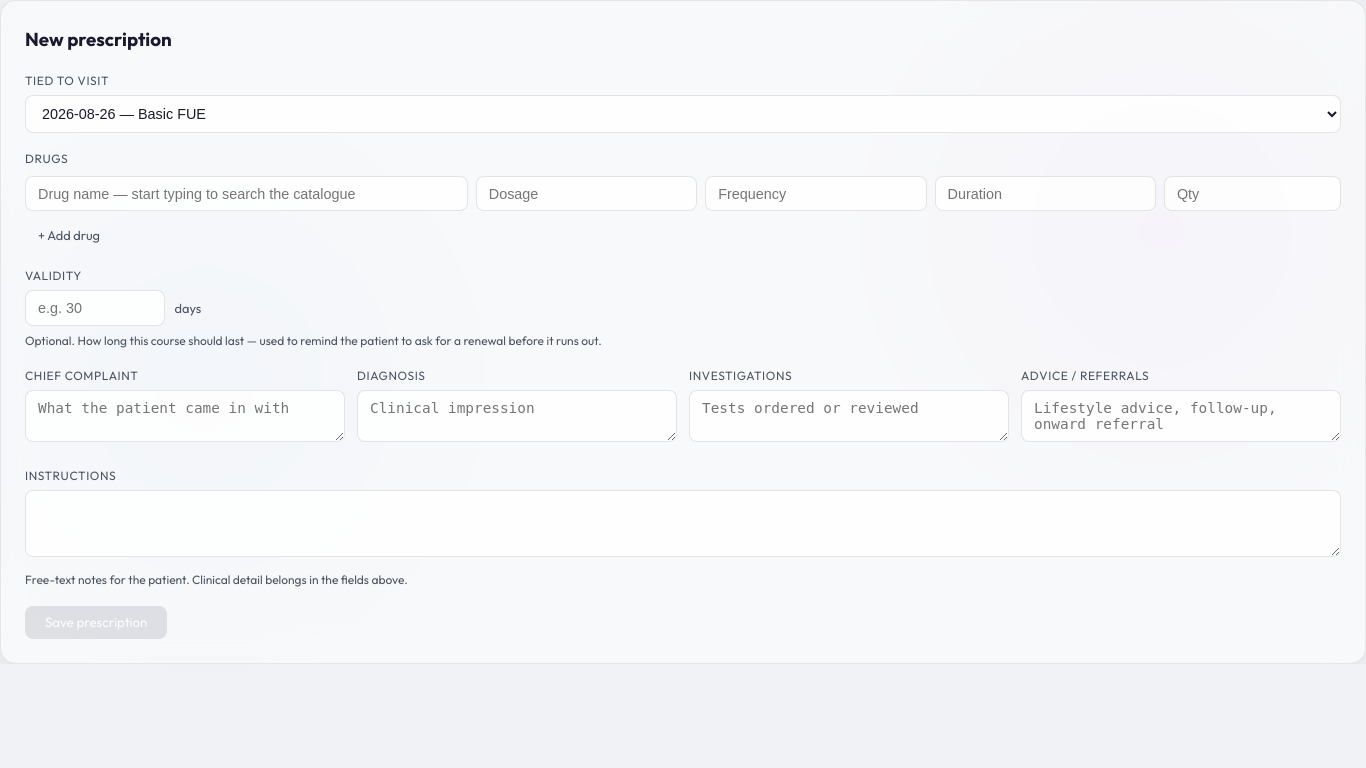
Test: PrescribeTab — drug typeahead › flags a drug at or below its reorder point as low
This screenshot has width=1366, height=768.
In the field with placeholder "Drug name — start typing to search the catalogue": (246, 194) 25,176 -> 468,211, type "mino"
Wait 300 ms
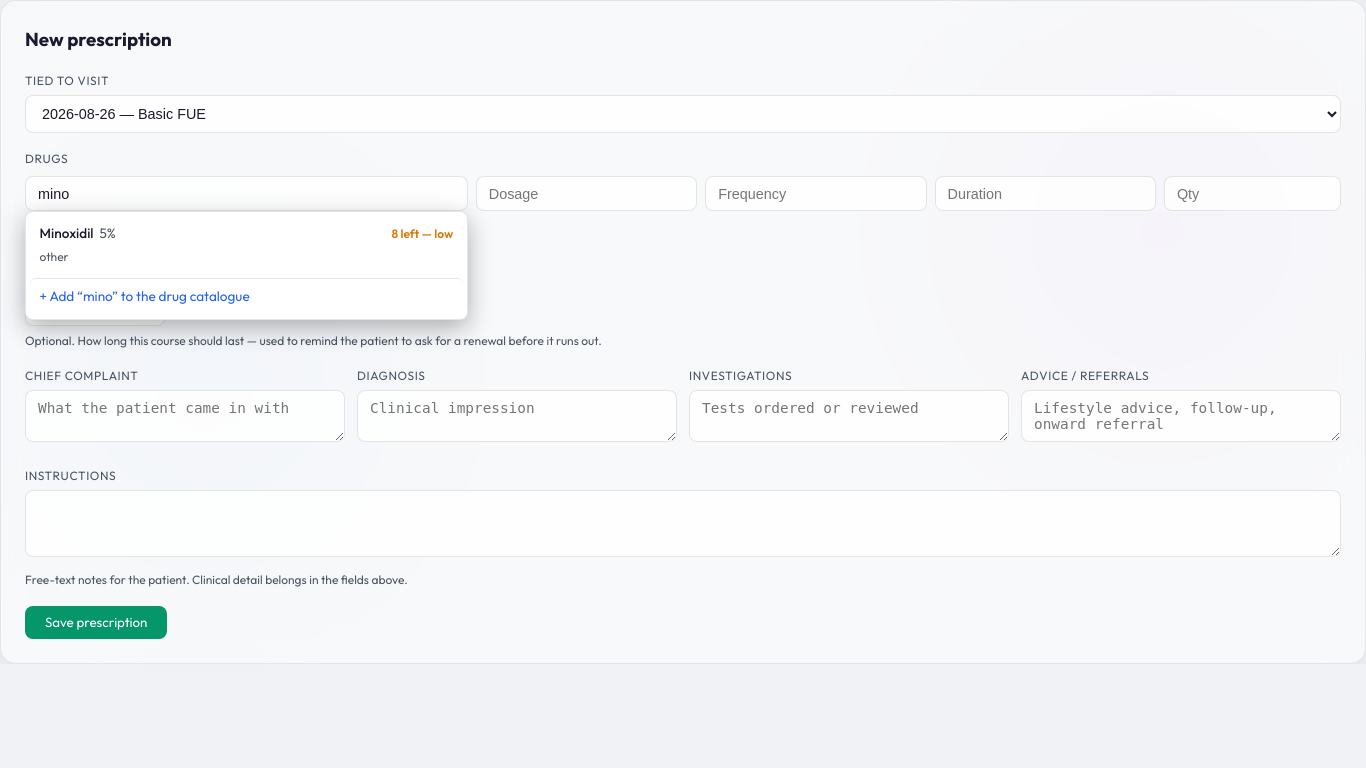
Result: the text "8 left — low" is shown at 392,224 -> 453,244
